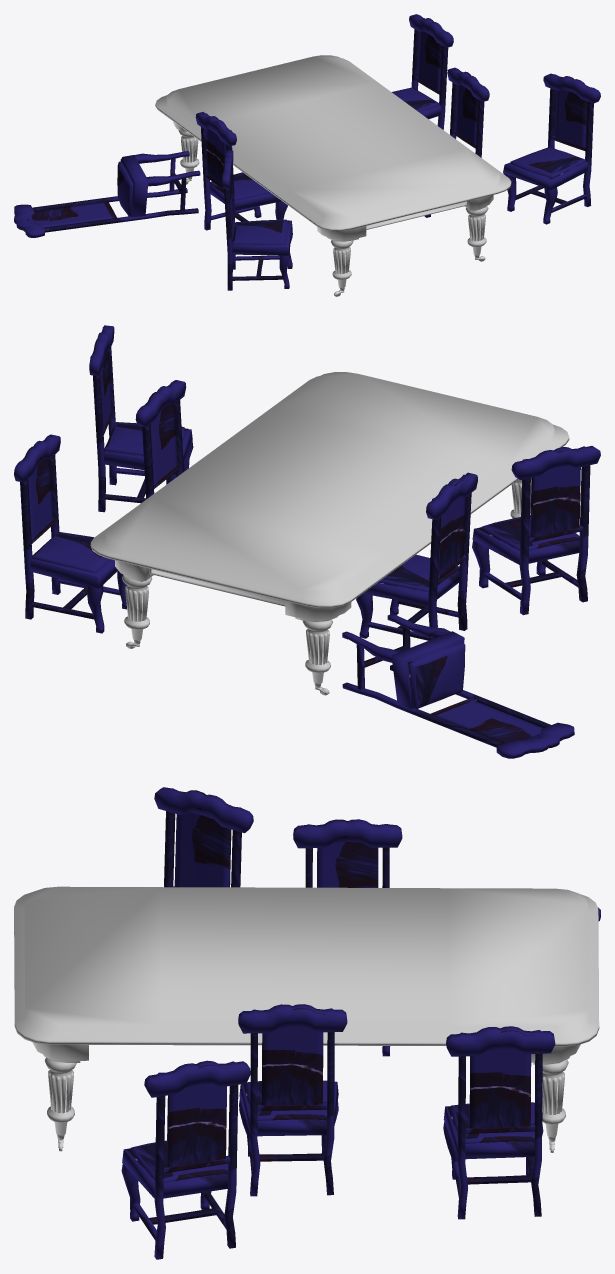
The model's file is coraline-copia.gltf.
3 views of the same model, one above another, from view 1: azimuth 30°, elevation 25°; view 2: azimuth 150°, elevation 25°; view 3: azimuth 270°, elevation 25° (orthographic). The views are drawn at different scales.
Parts seen in each view (by area): view 1: Test-material, Material-material; view 2: Test-material, Material-material; view 3: Test-material, Material-material.
Boxes of the visible parts, x1,y1,x2,y2 form: Test-material: [155, 55, 511, 296]; Material-material: [14, 14, 600, 290]; Test-material: [90, 372, 569, 695]; Material-material: [14, 325, 600, 758]; Test-material: [14, 886, 599, 1152]; Material-material: [121, 787, 600, 1259].
Bounding box in the file's own units: 42.99 × 10.67 × 29.49.
